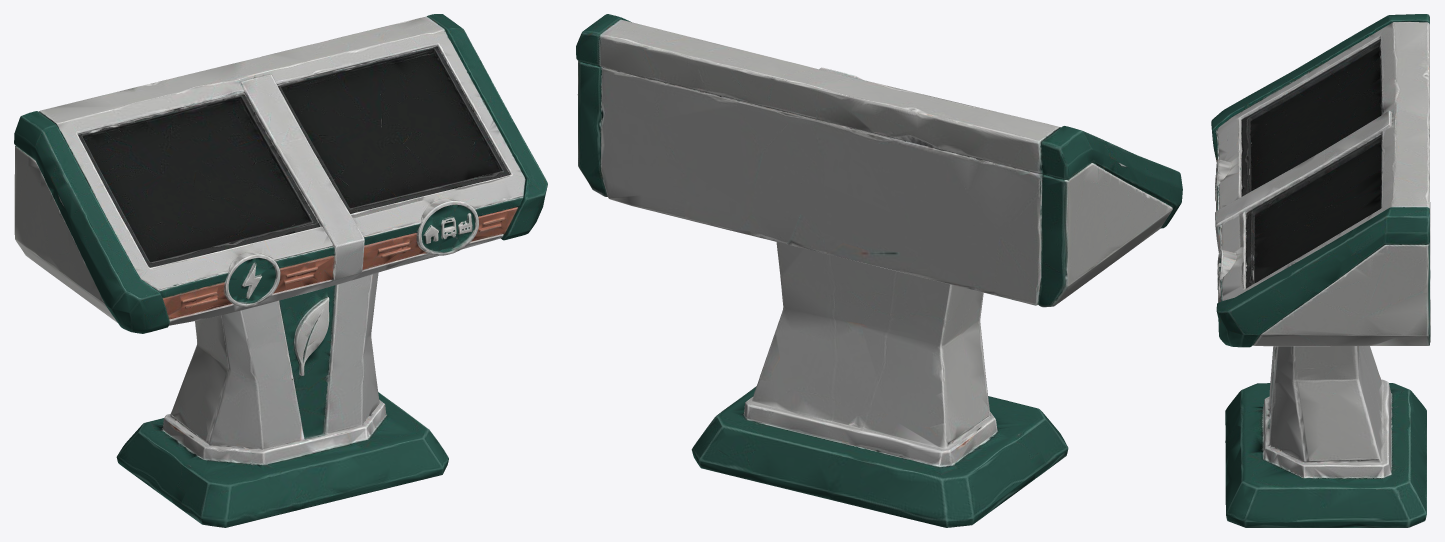
Rendered from energy-console.glb.
3 renders of one model, left to right at view 1: azimuth 30°, elevation 25°; view 2: azimuth 150°, elevation 25°; view 3: azimuth 270°, elevation 25°, orthographic. The views are drawn at different scales.
Bounding box in the file's own units: 1.9 × 1.51 × 0.8406.
Materials: 1 (1 with a texture image).
